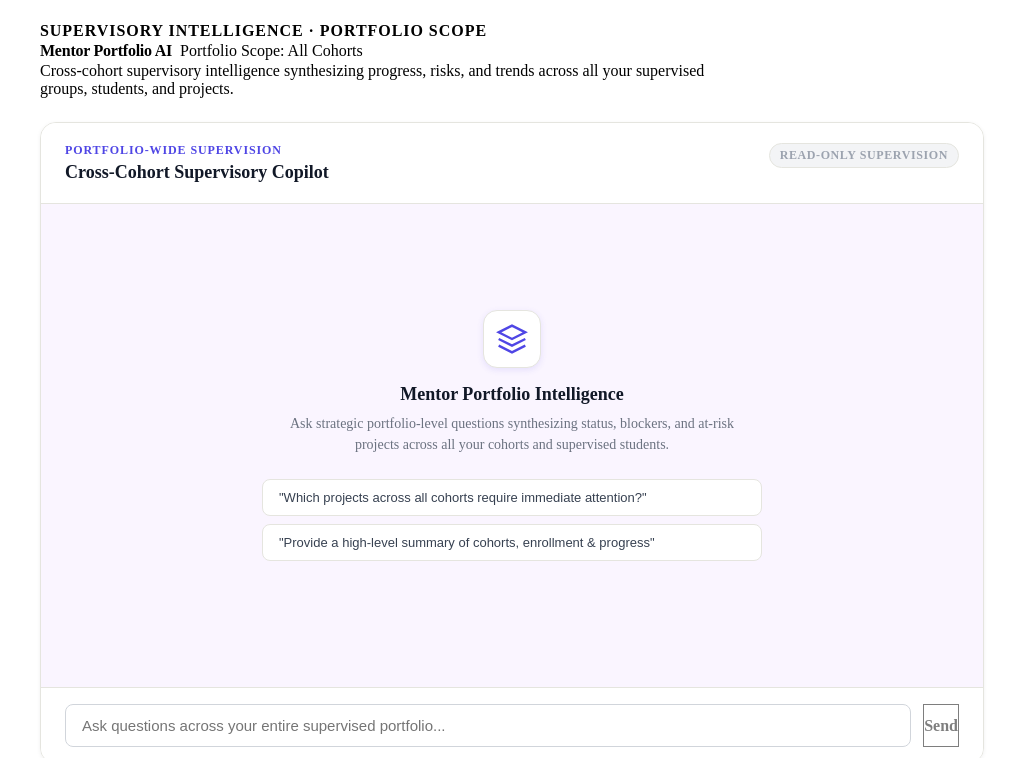
Phase 7 Batch 6: Mentor Scoped Activity & AI Supervision › M36: MentorAI › submits a portfolio-level query and displays assistant response
The width and height of the screenshot is (1024, 758).
Check: the text "Portfolio Scope: All Cohorts" is shown, box [172,40,371,62]
Step 1. Type "Summarize portfolio risk status." into the field named "message mentor portfolio ai" → coordinates (488, 726), box [65,704,911,747]
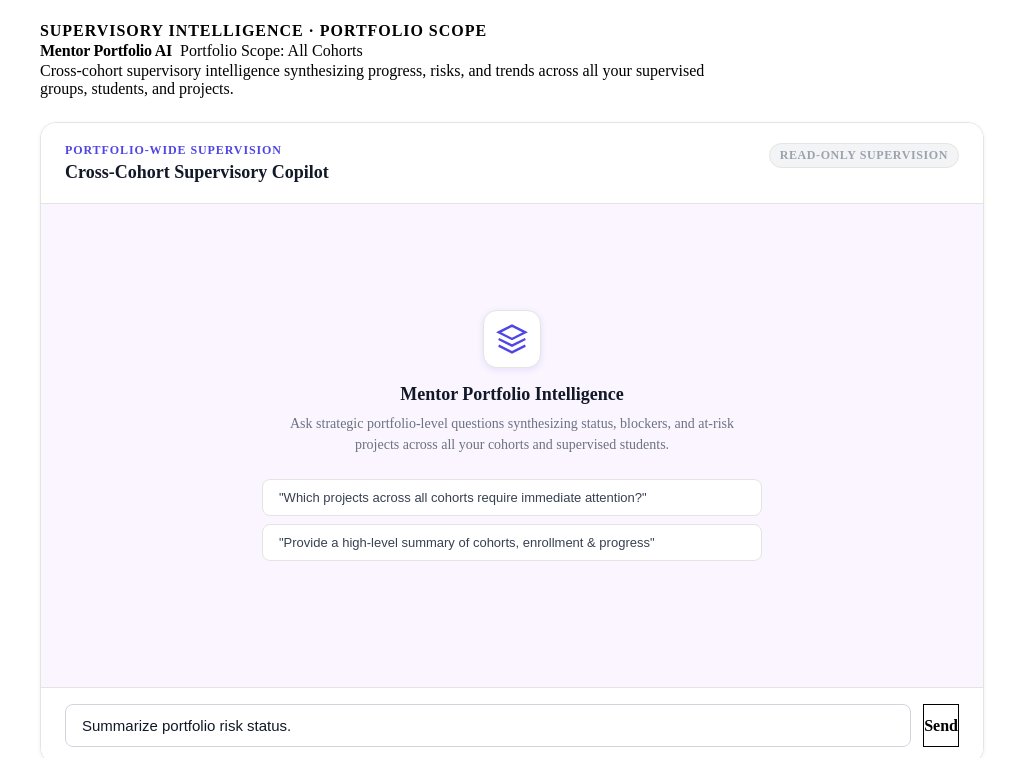
Check: the button "Send" is enabled
Step 2. Click the button "Send" → coordinates (941, 726), box [923,704,959,747]
(page scrolled)
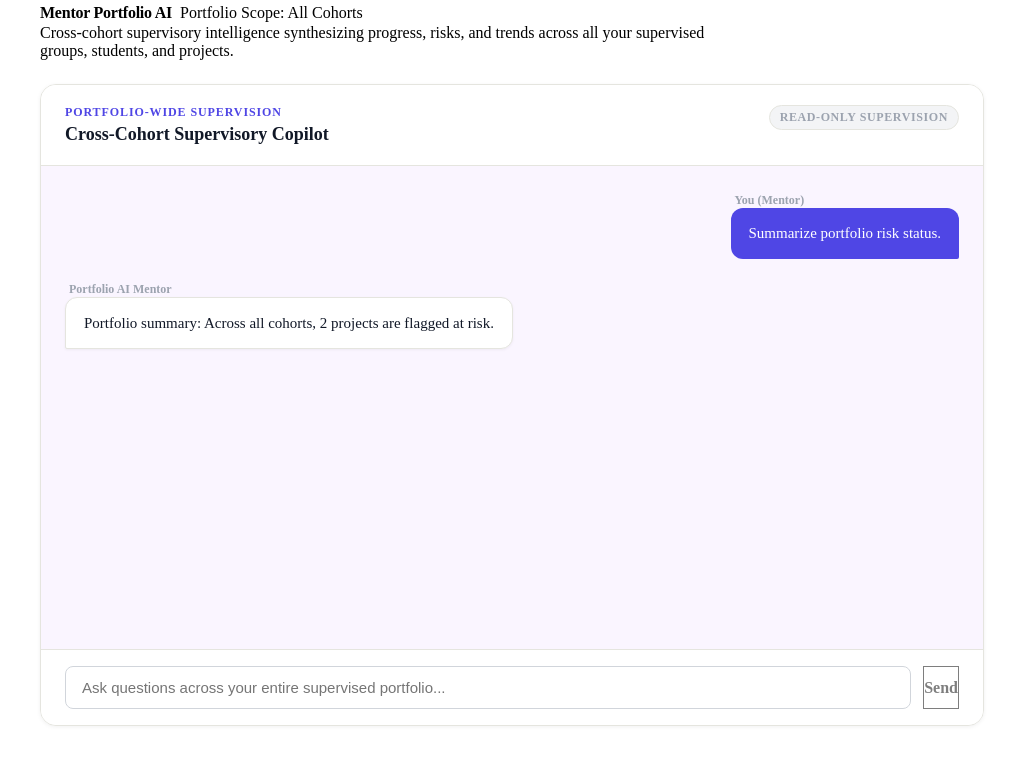
Check: the text "Portfolio summary: Across all cohorts, 2 projects are flagged at risk." is shown, box [84,312,494,334]
